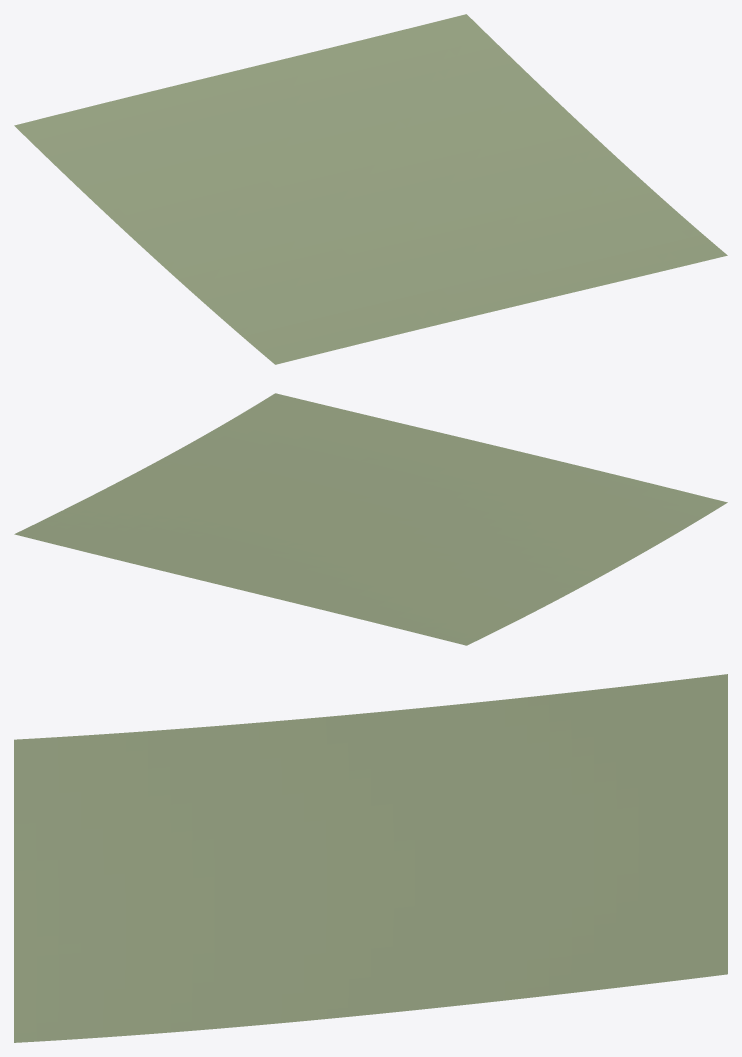
The model's file is desert-28-12.glb.
3 renders of one model, top to bottom at view 1: azimuth 30°, elevation 25°; view 2: azimuth 150°, elevation 25°; view 3: azimuth 270°, elevation 25°, orthographic. The views are drawn at different scales.
Parts seen in each view (by area): view 1: desert-28-12; view 2: desert-28-12; view 3: desert-28-12.
Boxes of the visible parts, bbox=[...] form: desert-28-12: bbox=[14, 14, 727, 364]; desert-28-12: bbox=[14, 393, 727, 645]; desert-28-12: bbox=[14, 674, 727, 1042].
Size of the model in its own units: 512 by 54.25 by 512.
